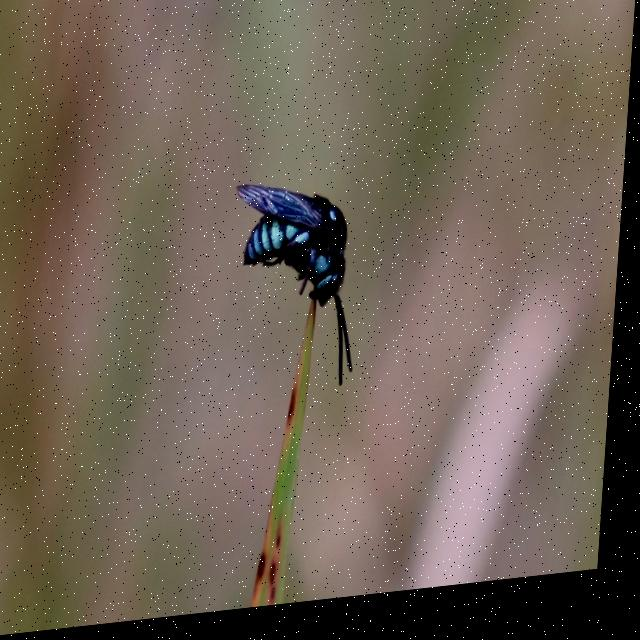Thyreus: (223, 160, 382, 412)
